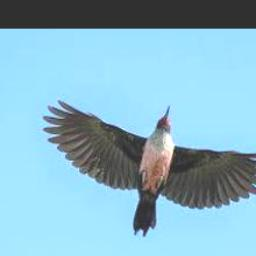Woodpecker: (43, 100, 256, 237)
